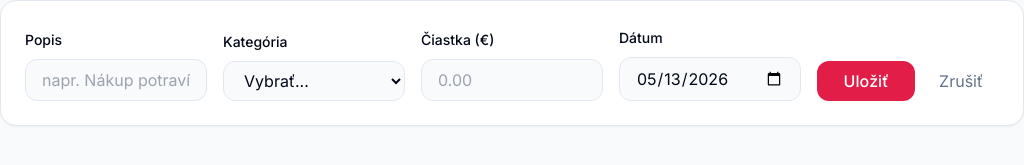
Test case: ExpenseForm › shows validation error for invalid amount
This screenshot has width=1024, height=165.
Type "Test" into the field labelled "Popis".
click(116, 80); type("Test")  # box [25,59,207,101]
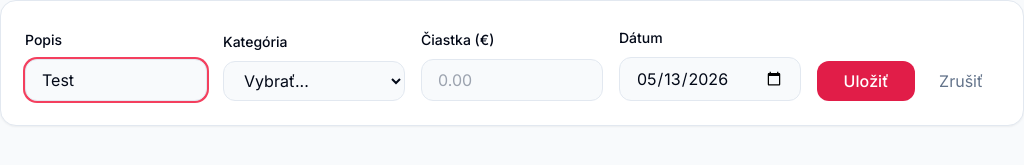
// Select a category
Select "Supermarket" in the dropdown with test id "expense-category-select" at (314, 81), box [223,61,405,101]
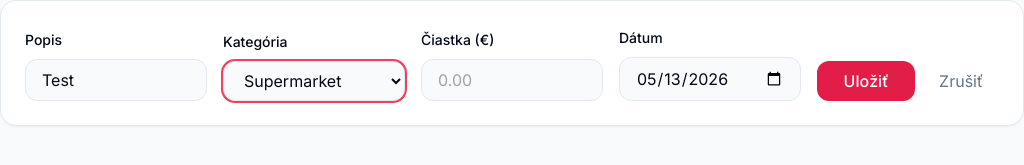
Type "-5" into the number field labelled "Čiastka (€)".
click(512, 80); type("-5")  # box [421,59,603,101]
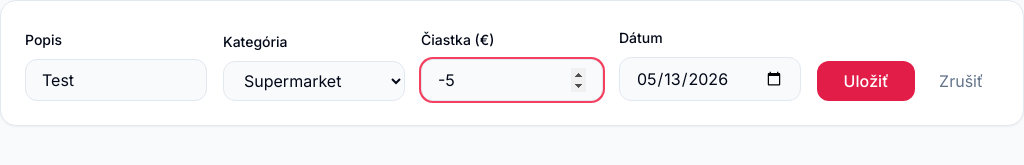
Click the button "Uložiť".
click(866, 81)  # box [817,61,915,101]
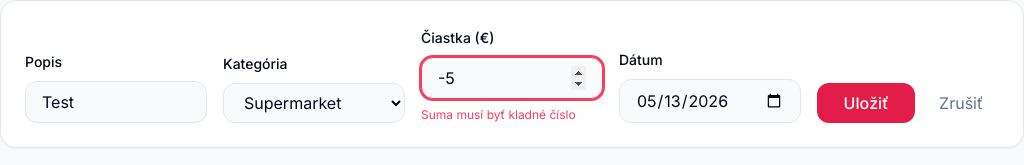
Check: the text "Suma musí byť kladné číslo" is shown, box [421,107,576,122]
